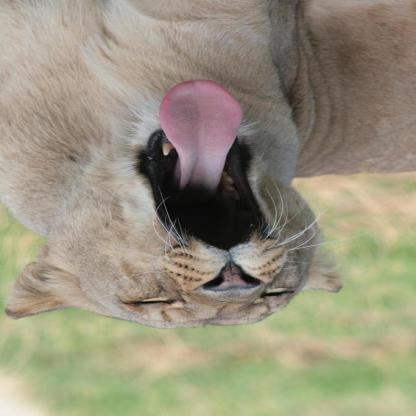lion: (0, 73, 344, 326)
